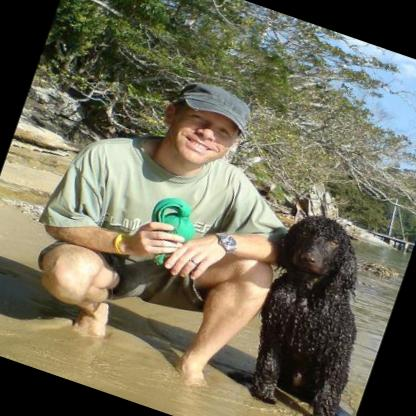Irish_water_spaniel: (227, 203, 396, 416)
